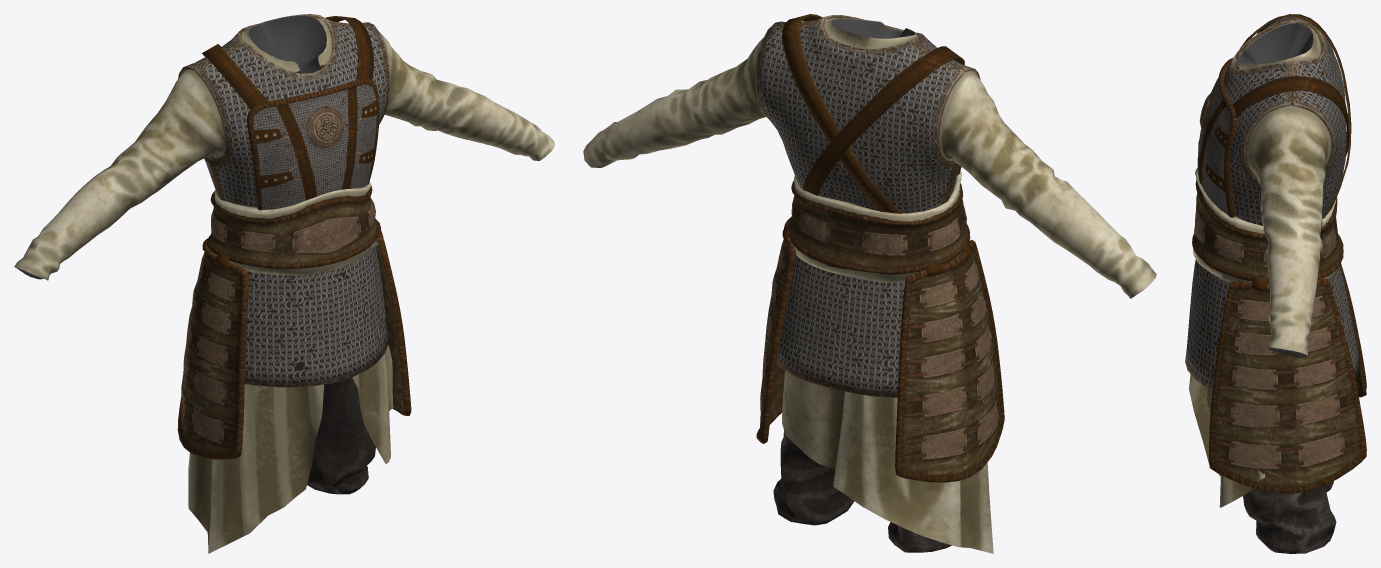
The model's file is dunland_caerdh_chainmail_elite_a.fbx.
3 views of the same model, side by side, from view 1: azimuth 30°, elevation 25°; view 2: azimuth 150°, elevation 25°; view 3: azimuth 270°, elevation 25° (orthographic). The views are drawn at different scales.
Visible parts, largest first — view 1: dunland_caerdh_chainmail_elite_a, dunland_caerdh_chainmail_elite_a.belta, dunland_caerdh_chainmail_elite_a.skirt; view 2: dunland_caerdh_chainmail_elite_a, dunland_caerdh_chainmail_elite_a.belta, dunland_caerdh_chainmail_elite_a.skirt; view 3: dunland_caerdh_chainmail_elite_a.belta, dunland_caerdh_chainmail_elite_a, dunland_caerdh_chainmail_elite_a.skirt.
Part boxes in pixels (x1,y1,x2,y2): dunland_caerdh_chainmail_elite_a: [14, 14, 554, 494]; dunland_caerdh_chainmail_elite_a.belta: [177, 16, 411, 459]; dunland_caerdh_chainmail_elite_a.skirt: [188, 345, 393, 553]; dunland_caerdh_chainmail_elite_a: [583, 15, 1156, 552]; dunland_caerdh_chainmail_elite_a.belta: [756, 14, 1004, 482]; dunland_caerdh_chainmail_elite_a.skirt: [782, 371, 993, 553]; dunland_caerdh_chainmail_elite_a.belta: [1192, 14, 1366, 493]; dunland_caerdh_chainmail_elite_a: [1185, 14, 1360, 553]; dunland_caerdh_chainmail_elite_a.skirt: [1189, 374, 1265, 507].
Bounding box in the file's own units: 1.38 × 0.4015 × 1.21.
3 materials, 3 textured.
